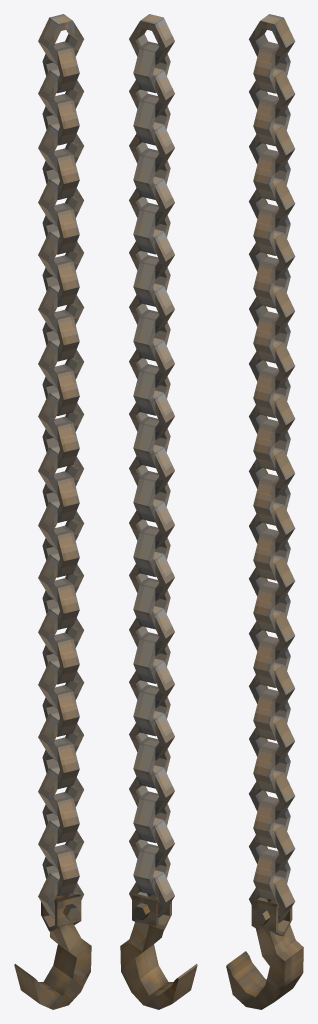
Rendered from Chain_With_Hook.fbx.
The picture shows the model from 3 angles, left to right: view 1: azimuth 30°, elevation 25°; view 2: azimuth 150°, elevation 25°; view 3: azimuth 330°, elevation 25°; orthographic projection.
Visible parts, largest first — view 1: cylinder_3, cylinder_4, cylinder_23, cylinder_19, cylinder_11, cylinder_29, cylinder_13, cylinder_17, cylinder_1, cylinder_7, cylinder_31, cylinder_26 (+24 smaller); view 2: cylinder_3, cylinder_4, cylinder_13, cylinder_11, cylinder_23, cylinder_7, cylinder_1, cylinder_17, cylinder_29, cylinder_19, cylinder_26, cylinder_25 (+24 smaller); view 3: cylinder_3, cylinder_4, cylinder_11, cylinder_7, cylinder_1, cylinder_19, cylinder_13, cylinder_17, cylinder_23, cylinder_29, cylinder_5, cylinder_26 (+25 smaller).
Part boxes in pixels (left/top/right/bottom): cylinder_3: left=14, top=923, right=91, bottom=1009; cylinder_4: left=38, top=14, right=83, bottom=65; cylinder_23: left=42, top=578, right=79, bottom=629; cylinder_19: left=42, top=471, right=79, bottom=522; cylinder_11: left=42, top=255, right=79, bottom=306; cylinder_29: left=42, top=737, right=79, bottom=789; cylinder_13: left=42, top=310, right=79, bottom=361; cylinder_17: left=42, top=416, right=79, bottom=468; cylinder_1: left=42, top=94, right=79, bottom=145; cylinder_7: left=42, top=148, right=79, bottom=199; cylinder_31: left=42, top=792, right=79, bottom=843; cylinder_26: left=42, top=685, right=79, bottom=736; cylinder_3: left=120, top=921, right=197, bottom=1009; cylinder_4: left=129, top=14, right=174, bottom=65; cylinder_13: left=133, top=309, right=170, bottom=361; cylinder_11: left=133, top=255, right=170, bottom=306; cylinder_23: left=133, top=577, right=170, bottom=629; cylinder_7: left=133, top=148, right=170, bottom=199; cylinder_1: left=133, top=93, right=170, bottom=145; cylinder_17: left=133, top=416, right=170, bottom=467; cylinder_29: left=133, top=737, right=170, bottom=788; cylinder_19: left=133, top=471, right=170, bottom=522; cylinder_26: left=133, top=684, right=170, bottom=736; cylinder_25: left=133, top=632, right=170, bottom=683; cylinder_3: left=226, top=925, right=303, bottom=1009; cylinder_4: left=249, top=14, right=295, bottom=65; cylinder_11: left=253, top=256, right=290, bottom=308; cylinder_7: left=253, top=149, right=290, bottom=200; cylinder_1: left=253, top=94, right=290, bottom=146; cylinder_19: left=253, top=473, right=290, bottom=525; cylinder_13: left=253, top=311, right=290, bottom=363; cylinder_17: left=253, top=419, right=290, bottom=470; cylinder_23: left=253, top=581, right=290, bottom=633; cylinder_29: left=253, top=741, right=290, bottom=793; cylinder_5: left=253, top=41, right=290, bottom=93; cylinder_26: left=253, top=688, right=290, bottom=740.
Bounding box in the file's own units: 182 × 2922 × 138.
Materials: 2 (2 with a texture image).
